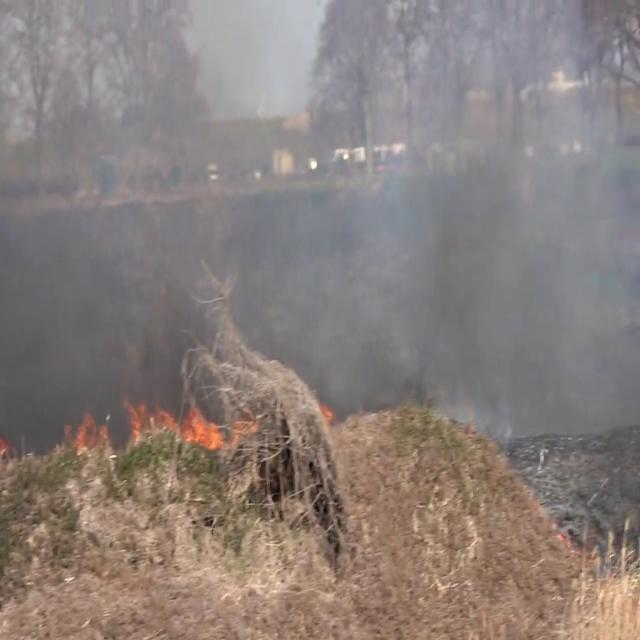Fire: (180, 408, 230, 456), (65, 408, 104, 464)
Smoke: (1, 0, 640, 483)
